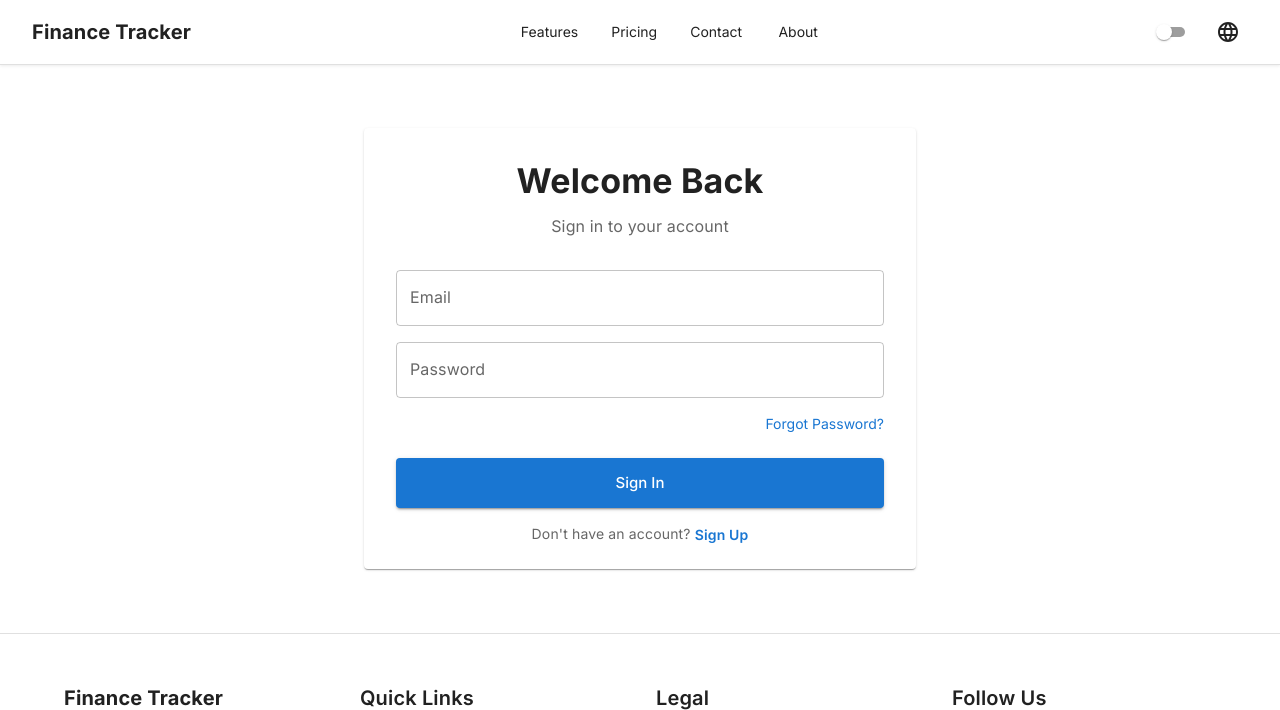
Scenario: LoginPage › should show validation error for empty password
Type "test@example.com" into the field labelled "Email" at (640, 298), box top-left (396, 270), bottom-right (884, 326)
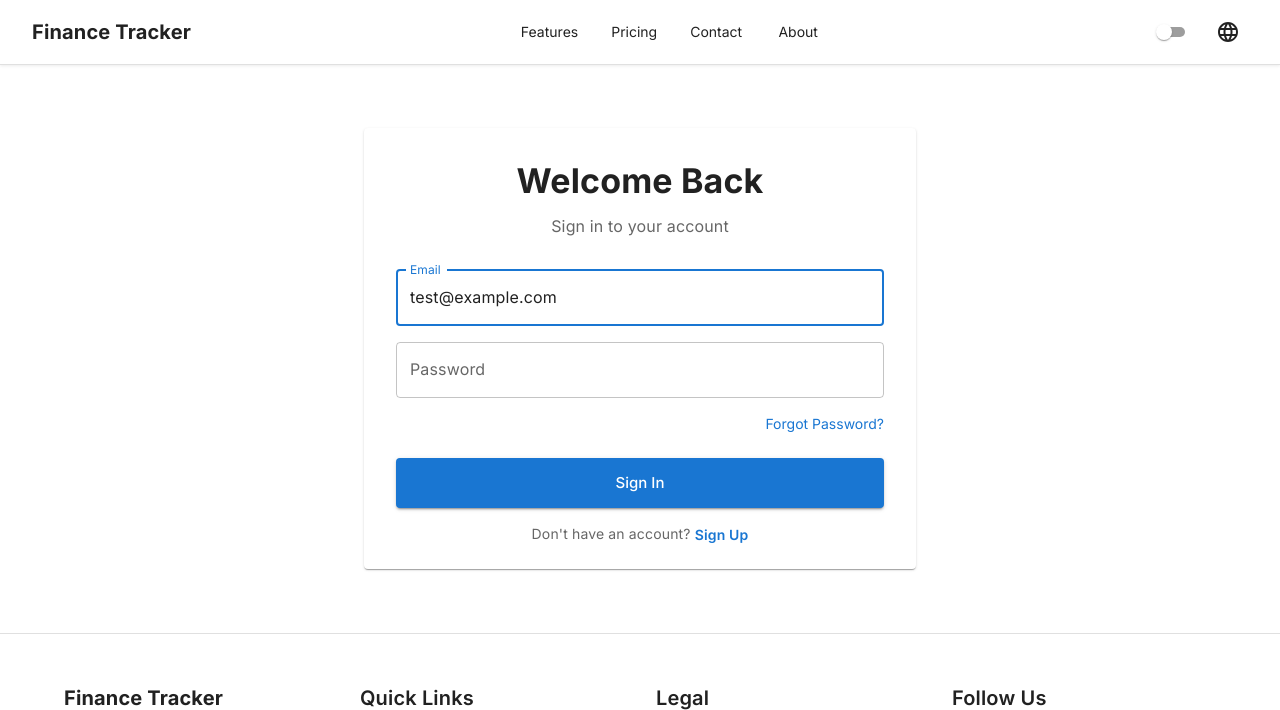
Click the button "Sign In" at (640, 483), box top-left (396, 458), bottom-right (884, 508)
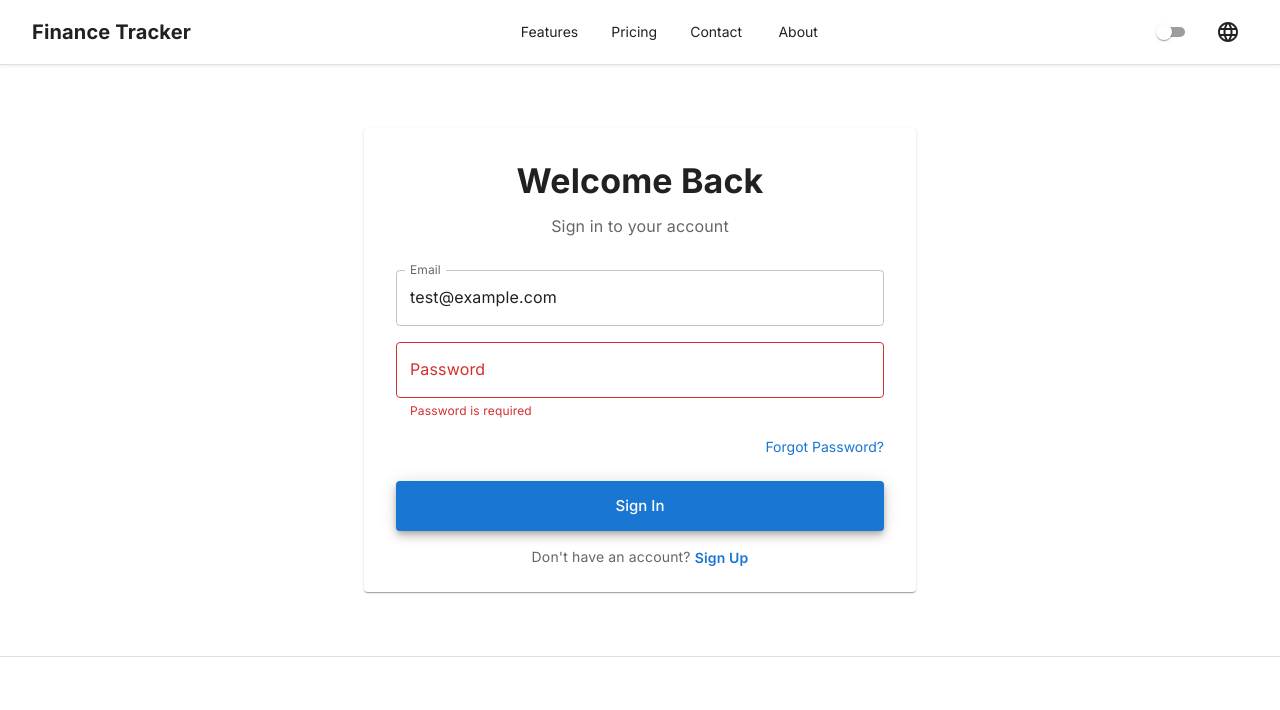
Expected: the text "Password is required" is shown, top-left (410, 403), bottom-right (532, 418)
